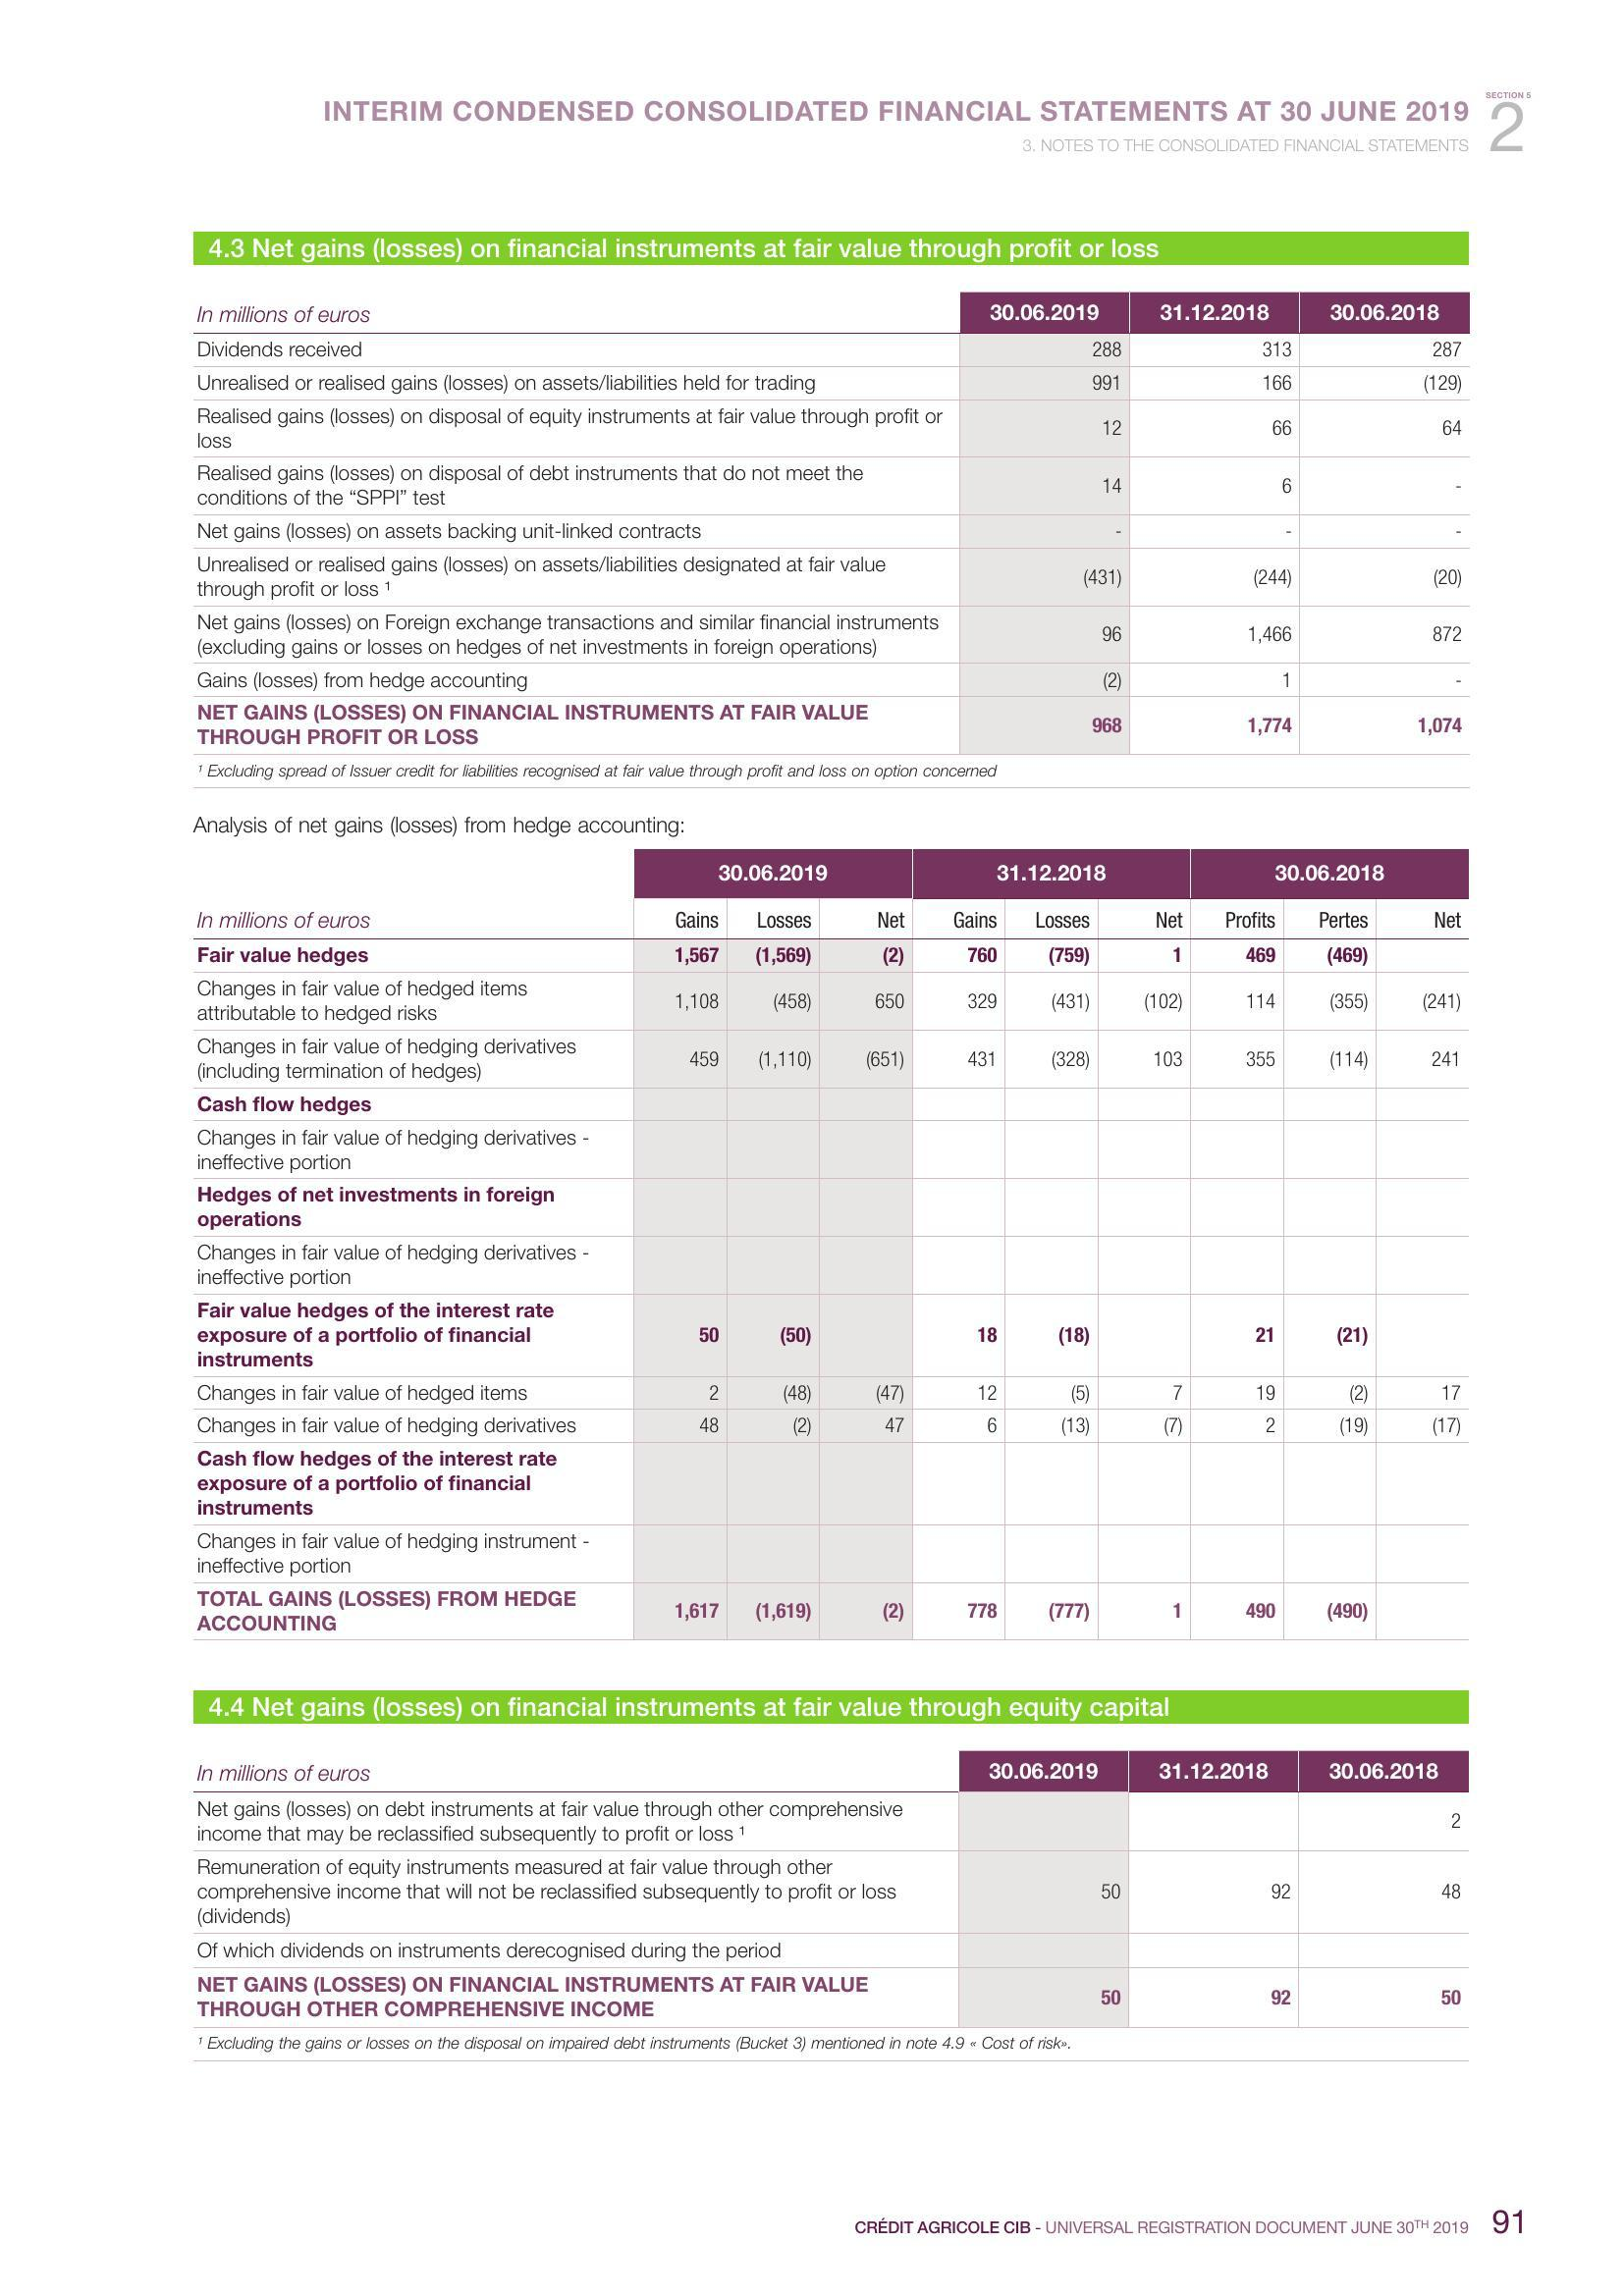cell: (186, 1850, 956, 1934), (186, 1967, 956, 2031), (190, 696, 961, 755), (186, 1790, 956, 1850), (190, 399, 961, 457), (190, 548, 961, 606), (190, 606, 961, 664), (190, 457, 961, 513), (186, 1442, 634, 1527), (186, 1296, 634, 1375), (186, 1750, 956, 1790), (190, 293, 961, 332), (186, 1235, 634, 1296), (190, 332, 961, 367), (190, 513, 961, 548), (186, 1029, 634, 1087), (186, 1121, 634, 1179), (186, 1527, 634, 1585), (186, 1934, 956, 1967), (186, 973, 634, 1029), (186, 1179, 634, 1235), (186, 1585, 634, 1641), (190, 367, 961, 399), (190, 664, 961, 696), (186, 847, 634, 899), (186, 899, 634, 936), (186, 936, 634, 973), (186, 1087, 634, 1121), (186, 1375, 634, 1409), (186, 1409, 634, 1442), (1297, 1850, 1473, 1934), (956, 1850, 1128, 1934), (1128, 1850, 1297, 1934), (1297, 1967, 1473, 2031), (956, 1967, 1128, 2031), (1128, 1967, 1297, 2031), (1297, 1790, 1473, 1850), (956, 1790, 1128, 1850), (961, 696, 1132, 755), (1132, 696, 1302, 755), (1302, 696, 1471, 755), (1128, 1790, 1297, 1850), (961, 399, 1132, 457), (1132, 399, 1302, 457), (961, 548, 1132, 606), (1132, 548, 1302, 606), (961, 606, 1132, 664), (1132, 606, 1302, 664), (1302, 399, 1471, 457), (1302, 548, 1471, 606), (1302, 606, 1471, 664), (961, 457, 1132, 513), (1132, 457, 1302, 513), (1302, 457, 1471, 513), (634, 1442, 729, 1527), (729, 1442, 824, 1527), (912, 1442, 1007, 1527), (1007, 1442, 1100, 1527), (1100, 1442, 1193, 1527), (1285, 1442, 1378, 1527), (1193, 1442, 1285, 1527), (1378, 1442, 1469, 1527), (634, 1296, 729, 1375), (729, 1296, 824, 1375), (912, 1296, 1007, 1375), (824, 1442, 912, 1527), (1007, 1296, 1100, 1375), (1100, 1296, 1193, 1375), (1285, 1296, 1378, 1375), (1193, 1296, 1285, 1375), (1378, 1296, 1469, 1375), (1297, 1750, 1473, 1790), (956, 1750, 1128, 1790), (824, 1296, 912, 1375), (1128, 1750, 1297, 1790), (961, 293, 1132, 332), (1132, 293, 1302, 332), (1302, 293, 1471, 332), (961, 332, 1132, 367), (1132, 332, 1302, 367), (961, 513, 1132, 548), (1132, 513, 1302, 548), (1302, 332, 1471, 367), (1302, 513, 1471, 548), (1297, 1934, 1473, 1967), (634, 1235, 729, 1296), (729, 1235, 824, 1296), (912, 1235, 1007, 1296), (956, 1934, 1128, 1967), (1007, 1235, 1100, 1296), (1100, 1235, 1193, 1296), (1285, 1235, 1378, 1296), (1128, 1934, 1297, 1967), (1193, 1235, 1285, 1296), (1378, 1235, 1469, 1296), (634, 1029, 729, 1087), (729, 1029, 824, 1087), (912, 1029, 1007, 1087), (634, 1121, 729, 1179), (729, 1121, 824, 1179), (912, 1121, 1007, 1179), (634, 1527, 729, 1585), (729, 1527, 824, 1585), (912, 1527, 1007, 1585), (824, 1235, 912, 1296), (1007, 1029, 1100, 1087), (1100, 1029, 1193, 1087), (1285, 1029, 1378, 1087), (1007, 1121, 1100, 1179), (1100, 1121, 1193, 1179), (1285, 1121, 1378, 1179), (1007, 1527, 1100, 1585), (1100, 1527, 1193, 1585), (1285, 1527, 1378, 1585), (961, 367, 1132, 399), (1132, 367, 1302, 399), (961, 664, 1132, 696), (1132, 664, 1302, 696), (634, 973, 729, 1029), (729, 973, 824, 1029), (912, 973, 1007, 1029), (634, 1179, 729, 1235), (729, 1179, 824, 1235), (912, 1179, 1007, 1235), (634, 1585, 729, 1641), (729, 1585, 824, 1641), (912, 1585, 1007, 1641), (1302, 367, 1471, 399), (1302, 664, 1471, 696), (1193, 1029, 1285, 1087), (1378, 1029, 1469, 1087), (1193, 1121, 1285, 1179), (1378, 1121, 1469, 1179), (1193, 1527, 1285, 1585), (1378, 1527, 1469, 1585), (1007, 973, 1100, 1029), (1100, 973, 1193, 1029), (1285, 973, 1378, 1029), (1007, 1179, 1100, 1235), (1100, 1179, 1193, 1235), (1285, 1179, 1378, 1235), (1007, 1585, 1100, 1641), (1100, 1585, 1193, 1641), (1285, 1585, 1378, 1641), (1193, 973, 1285, 1029), (1378, 973, 1469, 1029), (1193, 1179, 1285, 1235), (1378, 1179, 1469, 1235), (1193, 1585, 1285, 1641), (1378, 1585, 1469, 1641), (824, 1029, 912, 1087), (824, 1121, 912, 1179), (824, 1527, 912, 1585), (634, 847, 729, 899), (729, 847, 824, 899), (912, 847, 1007, 899), (824, 973, 912, 1029), (824, 1179, 912, 1235), (824, 1585, 912, 1641), (1007, 847, 1100, 899), (1100, 847, 1193, 899), (1285, 847, 1378, 899), (1193, 847, 1285, 899), (1378, 847, 1469, 899), (824, 847, 912, 899), (634, 899, 729, 936), (729, 899, 824, 936), (912, 899, 1007, 936), (634, 936, 729, 973), (729, 936, 824, 973), (912, 936, 1007, 973), (1007, 899, 1100, 936), (1100, 899, 1193, 936), (1285, 899, 1378, 936), (1007, 936, 1100, 973), (1100, 936, 1193, 973), (1285, 936, 1378, 973), (1193, 899, 1285, 936), (1378, 899, 1469, 936), (1193, 936, 1285, 973), (1378, 936, 1469, 973), (824, 899, 912, 936), (824, 936, 912, 973), (634, 1087, 729, 1121), (729, 1087, 824, 1121), (912, 1087, 1007, 1121), (634, 1375, 729, 1409), (729, 1375, 824, 1409), (912, 1375, 1007, 1409), (634, 1409, 729, 1442), (729, 1409, 824, 1442), (912, 1409, 1007, 1442), (1007, 1087, 1100, 1121), (1100, 1087, 1193, 1121), (1285, 1087, 1378, 1121), (1007, 1375, 1100, 1409), (1100, 1375, 1193, 1409), (1285, 1375, 1378, 1409), (1007, 1409, 1100, 1442), (1100, 1409, 1193, 1442), (1285, 1409, 1378, 1442), (1193, 1087, 1285, 1121), (1378, 1087, 1469, 1121), (1193, 1375, 1285, 1409), (1378, 1375, 1469, 1409), (1193, 1409, 1285, 1442), (1378, 1409, 1469, 1442), (824, 1087, 912, 1121), (824, 1375, 912, 1409), (824, 1409, 912, 1442)
table: (186, 847, 1469, 1641), (190, 293, 1471, 755), (186, 1750, 1473, 2031)
